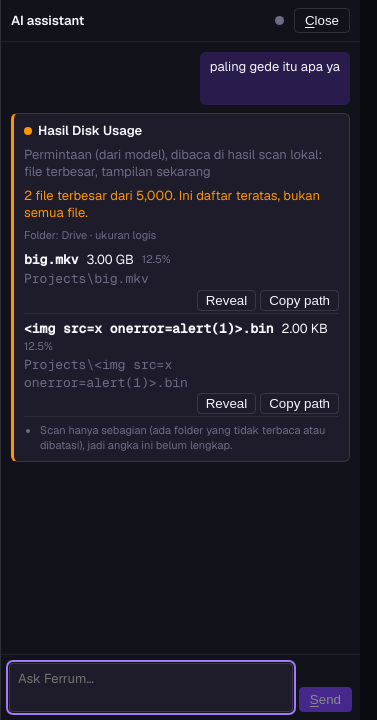
Test: DiskUsageAnswerCard › a failed copy says so
Click the button with test id "du-copy" below "3.00 GB": [300, 300] box [260,290,339,311]
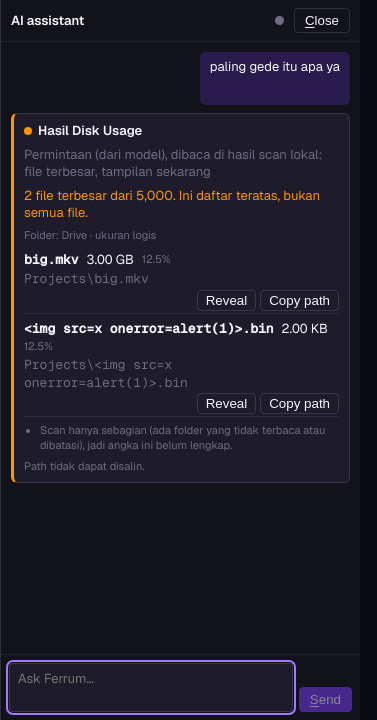
Result: the message with test id "du-note" shows "tidak dapat" at [24,459,144,473]
